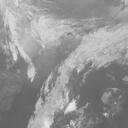cyclone: (33, 38, 94, 97)
